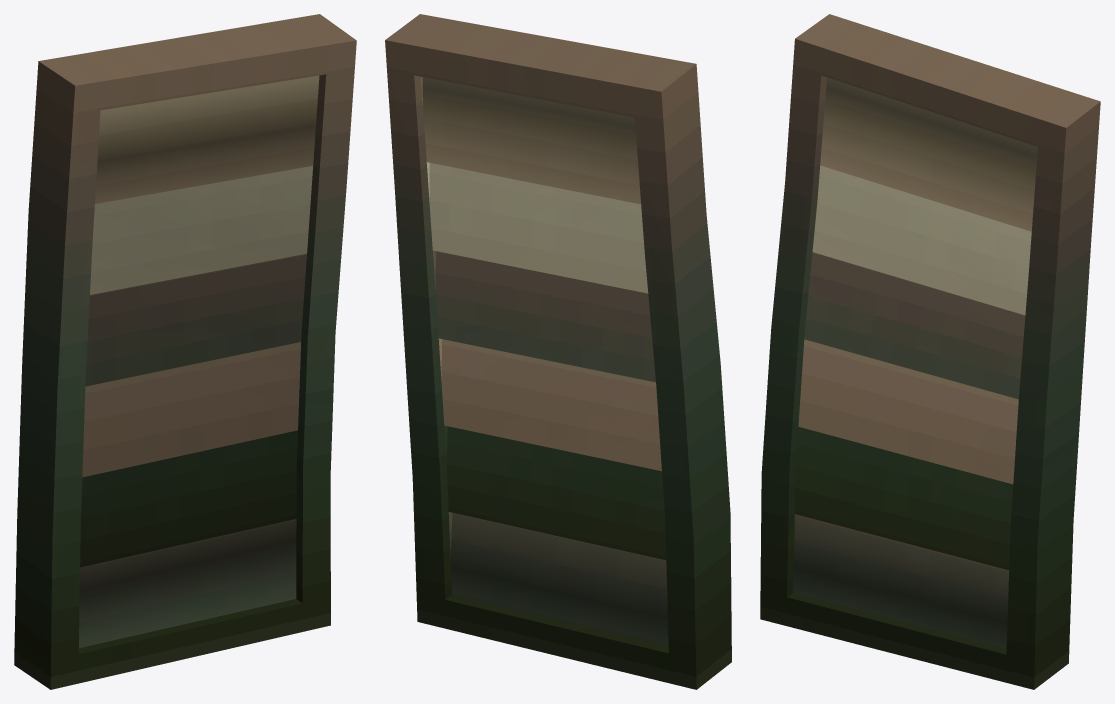
File: Window_Shutter_002.FBX
3 renders of one model, left to right at view 1: azimuth 30°, elevation 25°; view 2: azimuth 150°, elevation 25°; view 3: azimuth 330°, elevation 25°, orthographic.
Parts seen in each view (by area): view 1: Window_Shutter_002; view 2: Window_Shutter_002; view 3: Window_Shutter_002.
Part boxes in pixels (bbox=[...]): Window_Shutter_002: bbox=[14, 14, 356, 689]; Window_Shutter_002: bbox=[385, 14, 731, 689]; Window_Shutter_002: bbox=[760, 14, 1100, 689].
Size of the model in its own units: 0.1107 by 0.0267 by 0.2039.
